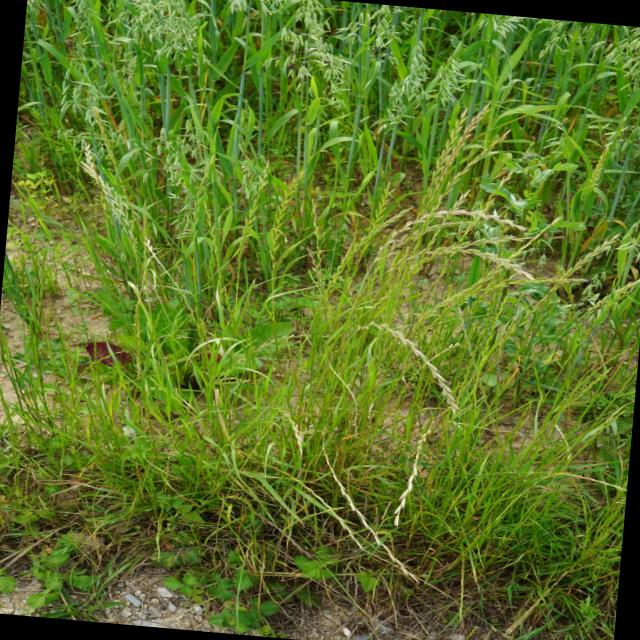Lolium: (282, 94, 528, 494), (58, 140, 260, 485)
